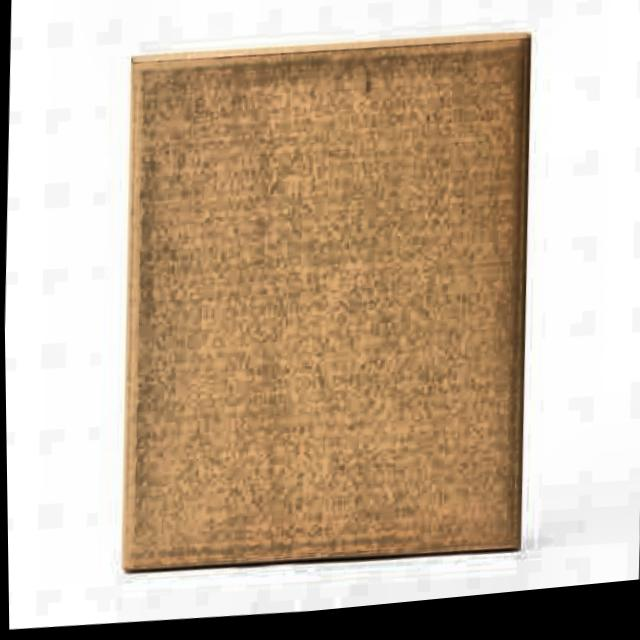Cardbox: (91, 13, 545, 611)
